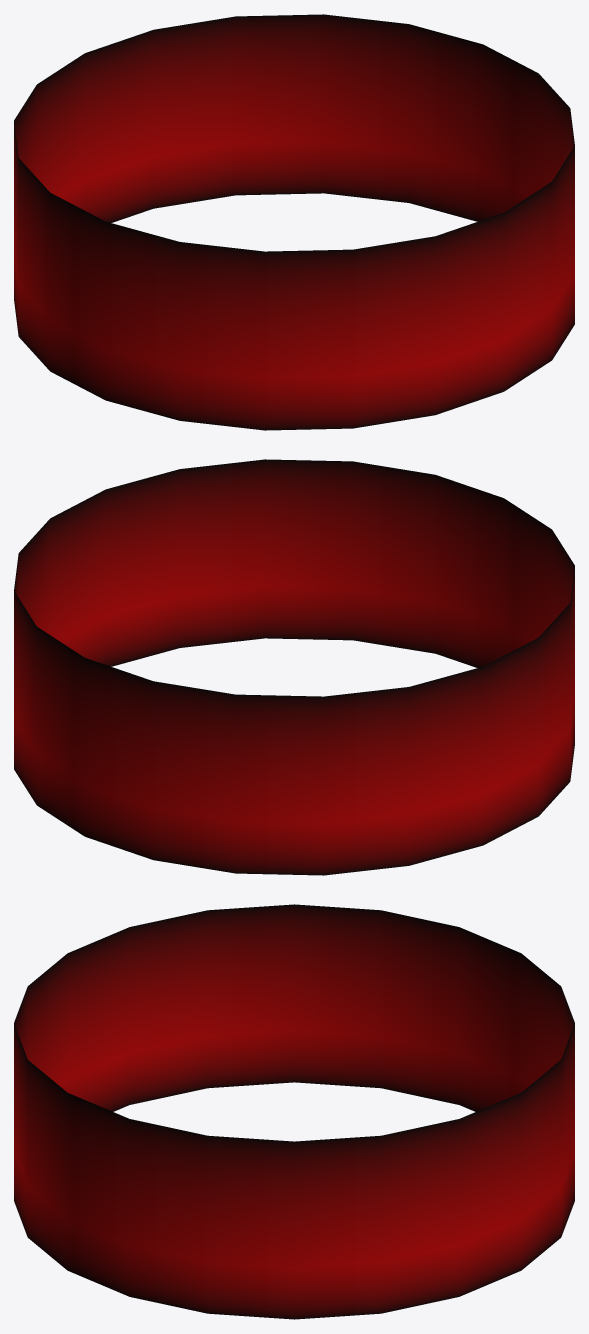
Rendered from FogRingModel.fbx.
3 renders of one model, top to bottom at view 1: azimuth 30°, elevation 25°; view 2: azimuth 150°, elevation 25°; view 3: azimuth 270°, elevation 25°, orthographic.
Parts seen in each view (by area): view 1: FogRing; view 2: FogRing; view 3: FogRing.
Part boxes in pixels (x1,y1,x2,y2): FogRing: (14, 14, 574, 430); FogRing: (14, 459, 574, 875); FogRing: (14, 904, 574, 1319).
Size of the model in its own units: 1000 by 350 by 1000.
